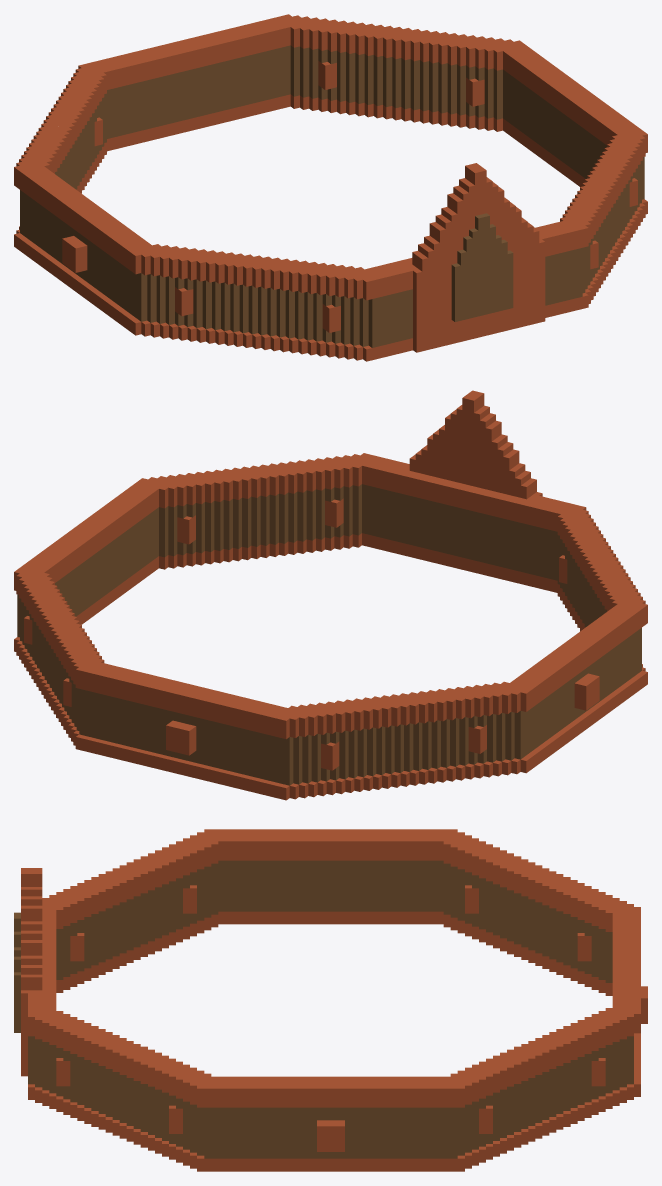
Rendered from copper_circlet.glb.
The picture shows the model from 3 angles, top to bottom: view 1: azimuth 30°, elevation 25°; view 2: azimuth 150°, elevation 25°; view 3: azimuth 270°, elevation 25°; orthographic projection. The views are drawn at different scales.
Visible parts, largest first — view 1: copper_circlet:compound; view 2: copper_circlet:compound; view 3: copper_circlet:compound.
Boxes of the visible parts, <box> form: copper_circlet:compound: <box>14,14,647,361</box>; copper_circlet:compound: <box>14,390,647,800</box>; copper_circlet:compound: <box>14,829,647,1171</box>.
Bounding box in the file's own units: 0.18 × 0.054 × 0.18.
